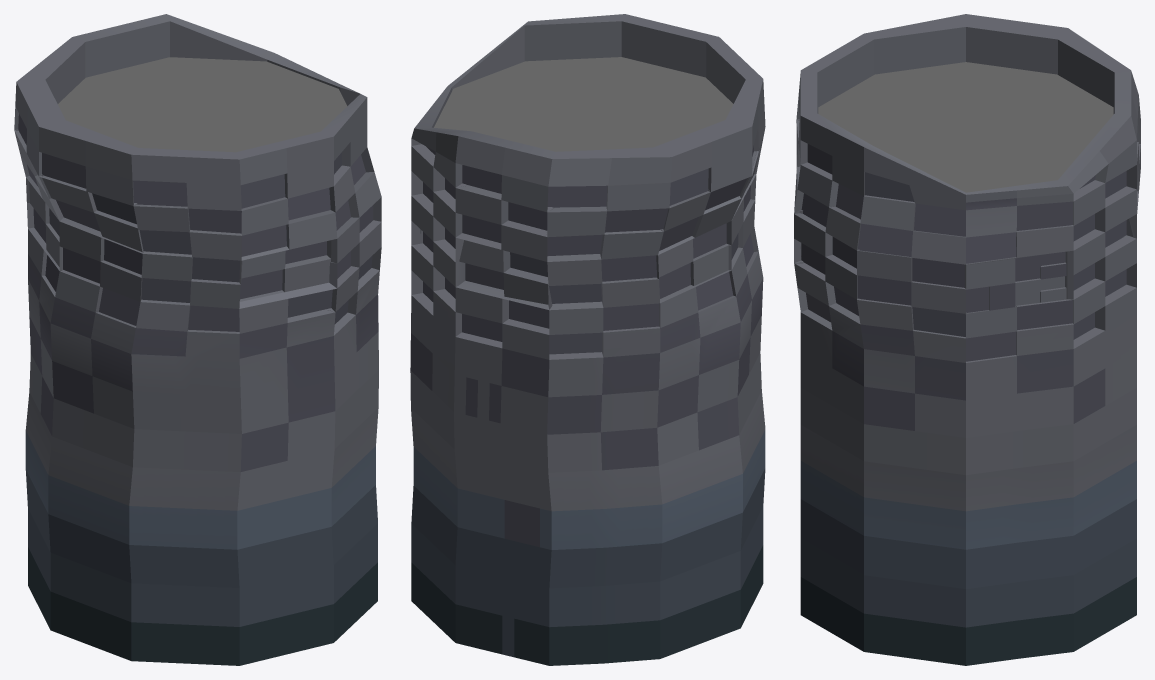
The model's file is Build01.fbx.
The picture shows the model from 3 angles, left to right: view 1: azimuth 30°, elevation 25°; view 2: azimuth 150°, elevation 25°; view 3: azimuth 270°, elevation 25°; orthographic projection.
Parts seen in each view (by area): view 1: pCylinder142; view 2: pCylinder142; view 3: pCylinder142.
Boxes of the visible parts, x1,y1,x2,y2 form: pCylinder142: (14, 14, 381, 665); pCylinder142: (410, 14, 765, 665); pCylinder142: (794, 14, 1140, 665).
Bounding box in the file's own units: 13.06 × 19.91 × 12.53.
